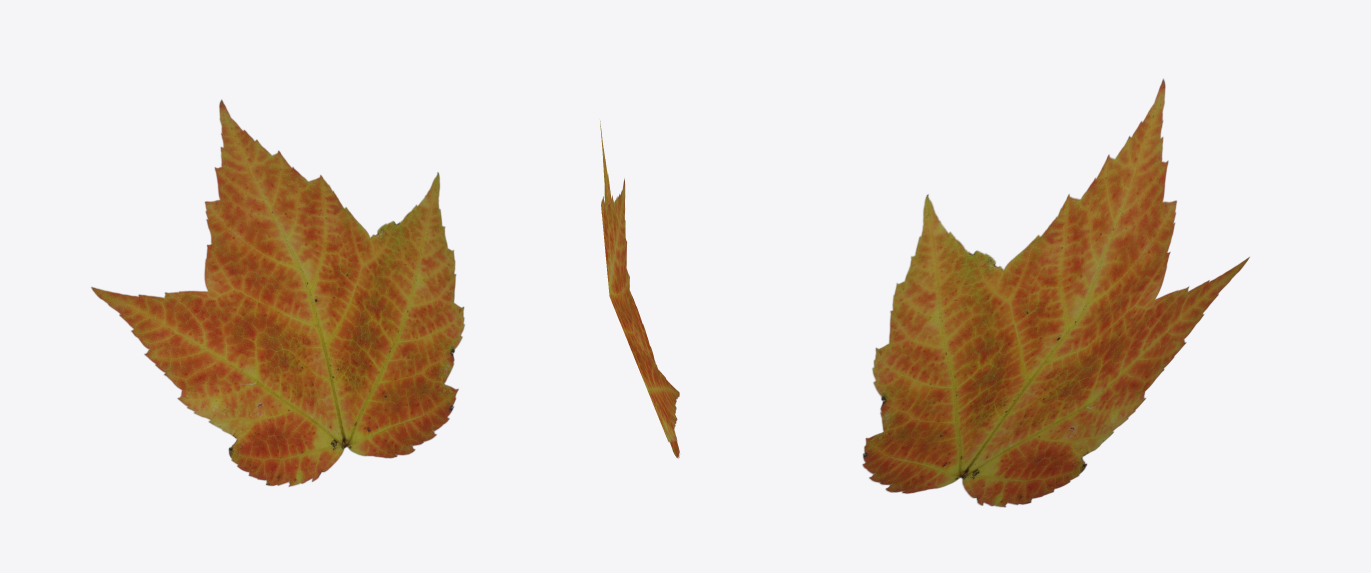
Rendered from autumn-leaf.glb.
The picture shows the model from 3 angles, left to right: view 1: azimuth 30°, elevation 25°; view 2: azimuth 150°, elevation 25°; view 3: azimuth 270°, elevation 25°; orthographic projection. The views are drawn at different scales.
Parts seen in each view (by area): view 1: Object_2; view 2: Object_2; view 3: Object_2.
Part boxes in pixels (x1=…): Object_2: x1=91, y1=99, x2=464, y2=486; Object_2: x1=600, y1=121, x2=679, y2=458; Object_2: x1=862, y1=78, x2=1249, y2=507.
Bounding box in the file's own units: 0.2692 × 0.4619 × 0.3881.
1 material, 1 textured.
